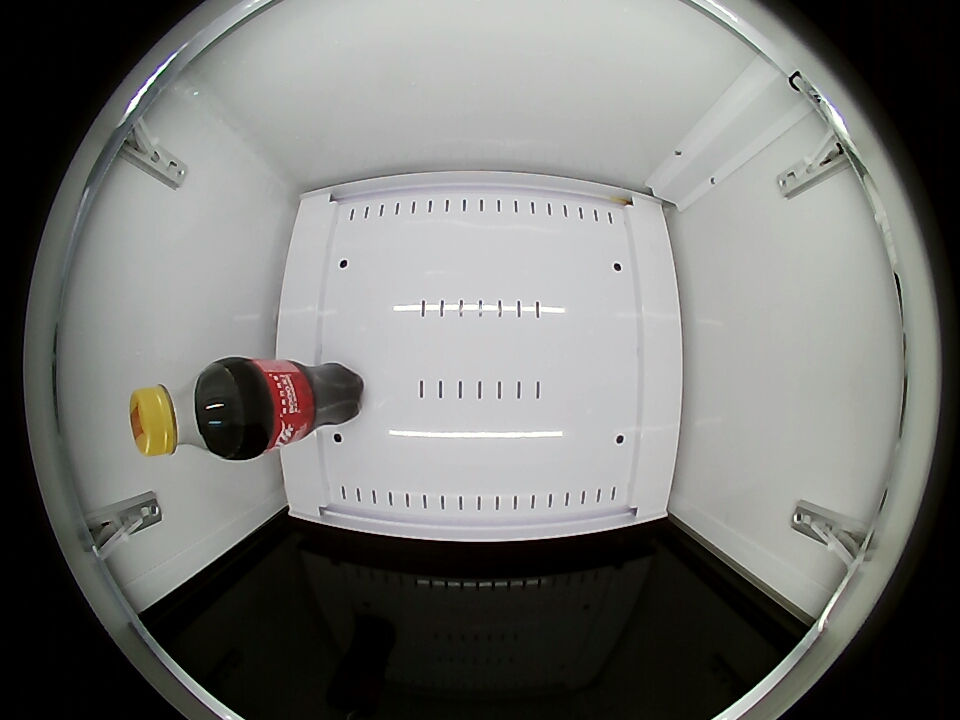kele-b-2: (130, 364, 240, 459)
